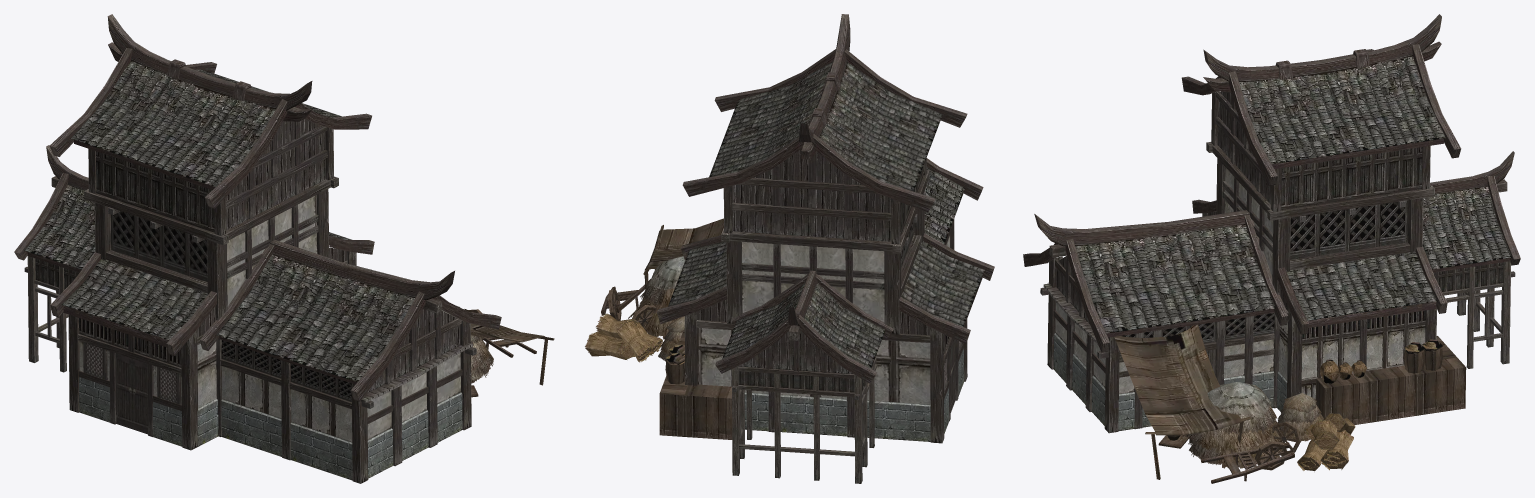
The model's file is acc_grenier.0b18f0bfa7.glb.
3 views of the same model, side by side, from view 1: azimuth 30°, elevation 25°; view 2: azimuth 150°, elevation 25°; view 3: azimuth 270°, elevation 25° (orthographic). The views are drawn at different scales.
Visible parts, largest first — view 1: grenier (×5); view 2: grenier (×6); view 3: grenier (×6).
Boxes of the visible parts, x1,y1,x2,y2 form: grenier (×5): (14, 14, 554, 483); grenier (×6): (585, 14, 994, 483); grenier (×6): (1023, 14, 1520, 483).
Size of the model in its own units: 1 by 0.7725 by 1.04.
7 materials, 7 textured.
